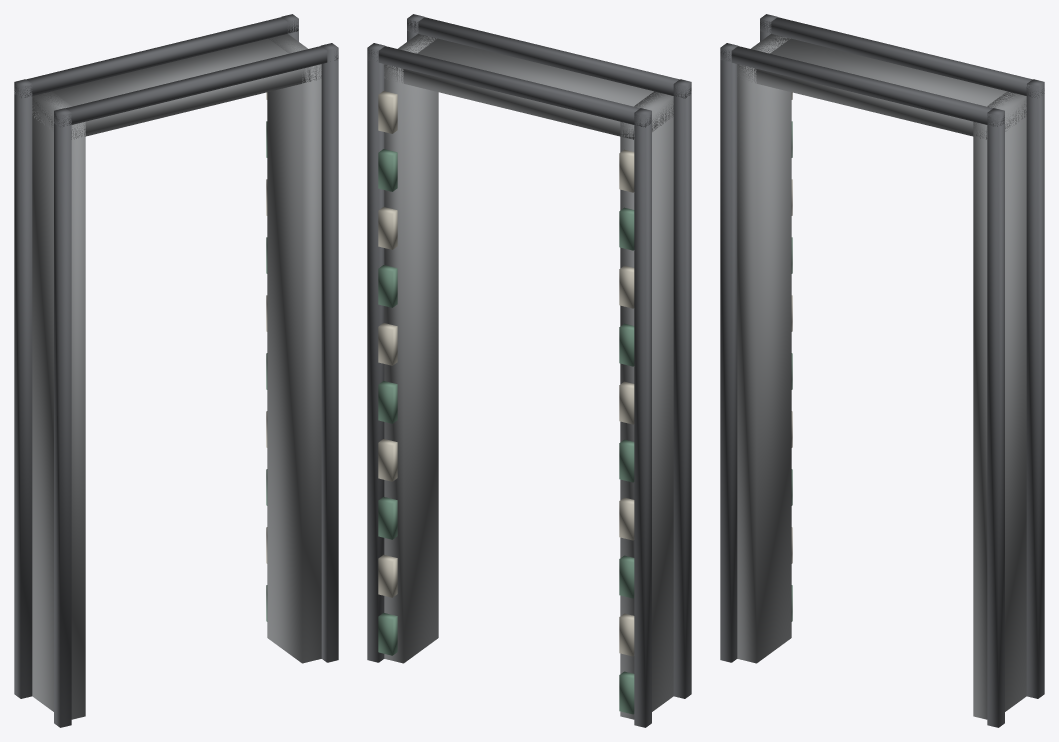
The model's file is doorway_tile_return_w86_h220_d24.glb.
3 views of the same model, side by side, from view 1: azimuth 30°, elevation 25°; view 2: azimuth 150°, elevation 25°; view 3: azimuth 330°, elevation 25° (orthographic).
Parts seen in each view (by area): view 1: world; view 2: world; view 3: world.
Boxes of the visible parts, <box> form: world: <box>14,14,338,727</box>; world: <box>367,14,691,727</box>; world: <box>720,14,1044,727</box>.
Size of the model in its own units: 1.1 by 2.32 by 0.3207.
